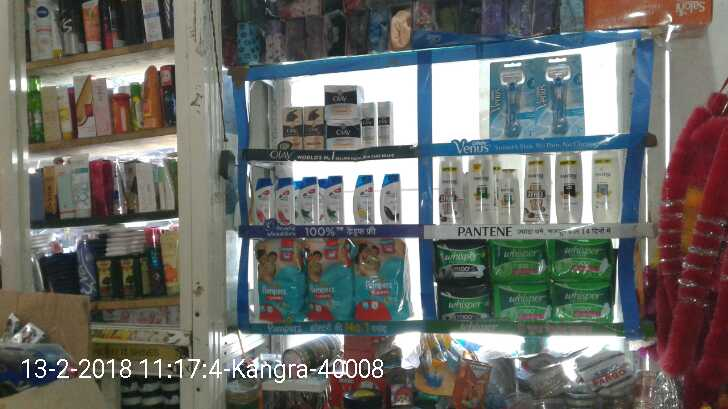venus: (534, 53, 579, 136), (490, 63, 534, 136)
